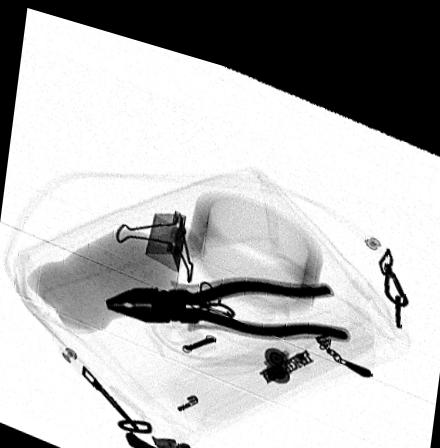Pliers: (103, 264, 350, 322)
